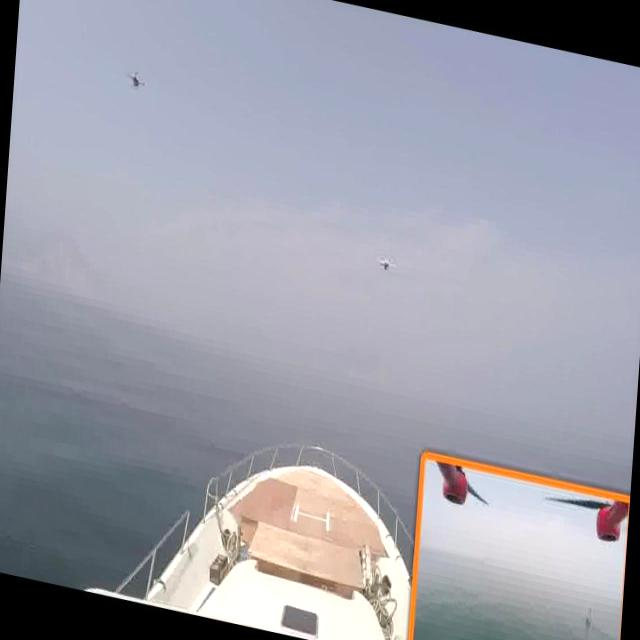drone: (123, 65, 151, 99), (373, 246, 399, 279)
